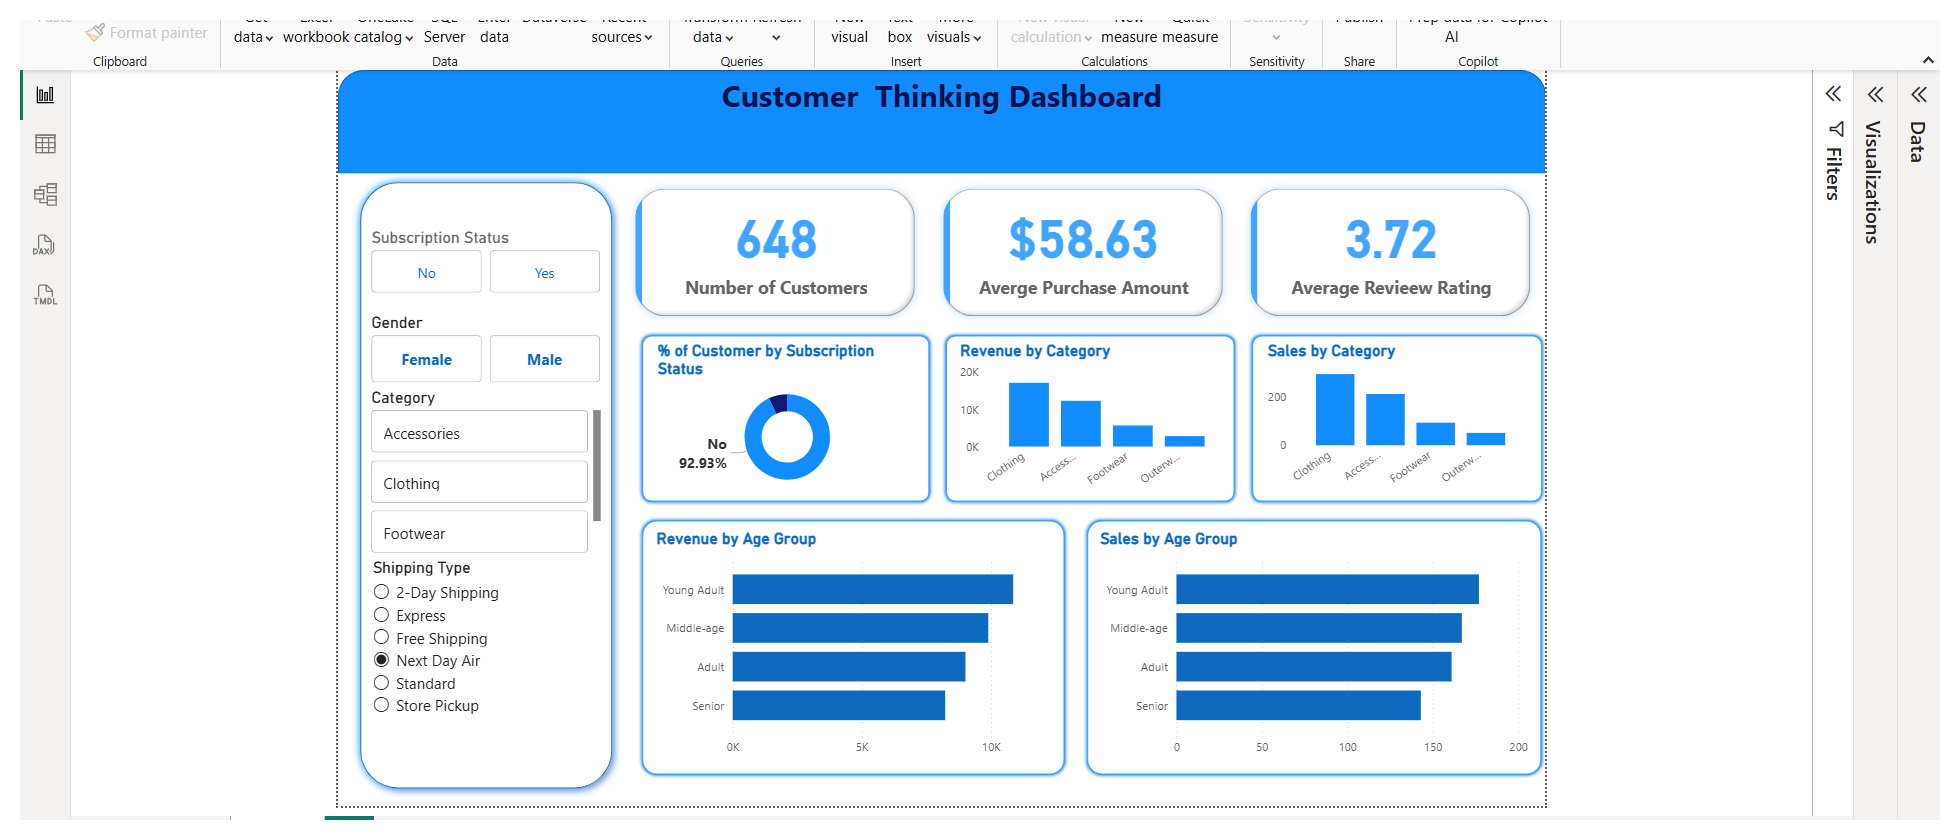

The page's visual inventory and layout, read from the dashboard file:
{"tool":"powerbi","page":{"name":"Page 1","canvas":[1280,780],"ordinal":0},"visuals":[{"type":"cardVisual","fields":{"Data":["public customer_feed_back.Number of Customers","public customer_feed_back.Averge Purchase Amount","public customer_feed_back.Average Revieew Rating"]},"box":[299.8,109.4,980.5,167.5],"z":0},{"type":"shape","box":[0,0,1280.3,109.8],"z":1000},{"type":"textbox","box":[0,0,1280.3,82.3],"z":2000},{"type":"shape","box":[317.4,276.9,313.3,185],"z":3000},{"type":"donutChart","title":" % of Customer by Subscription Status","fields":{"Category":["public customer_feed_back.subscription_status"],"Y":["Sum(public customer_feed_back.customer_id)"]},"box":[333.6,287.7,285,164.8],"z":4000},{"type":"shape","box":[640.1,276.9,314.7,185],"z":5000},{"type":"shape","box":[964.3,276.9,316,185],"z":6000},{"type":"clusteredColumnChart","title":"Revenue by Category","fields":{"Y":["Sum(public customer_feed_back.purchase_amount_usd)"],"Category":["public customer_feed_back.category"]},"box":[655,287.7,293.1,164.8],"z":7000},{"type":"clusteredColumnChart","title":"Sales by Category","fields":{"Y":["CountNonNull(public customer_feed_back.customer_id)"],"Category":["public customer_feed_back.category"]},"box":[980.5,287.7,285,163.4],"z":8000},{"type":"shape","box":[14.9,109.4,285,660.4],"z":9000},{"type":"advancedSlicerVisual","fields":{"Values":["public customer_feed_back.gender"]},"box":[31.1,256.6,253.9,79.7],"z":10000},{"type":"advancedSlicerVisual","fields":{"Values":["public customer_feed_back.subscription_status"]},"box":[31.1,167.5,253.9,74.3],"z":11000},{"type":"advancedSlicerVisual","fields":{"Values":["public customer_feed_back.category"]},"box":[31.1,336.3,253.9,181],"z":12000},{"type":"listSlicer","fields":{"Values":["public customer_feed_back.shipping_type"]},"box":[31.3,517,253,221.7],"z":13000},{"type":"shape","box":[317.4,472.7,456.5,278.2],"z":14000},{"type":"clusteredBarChart","title":"Revenue by Age Group","fields":{"Y":["Sum(public customer_feed_back.purchase_amount_usd)"],"Category":["public customer_feed_back.age_group"]},"box":[332.2,486.2,429.5,249.8],"z":15000},{"type":"shape","box":[790,472.7,490.2,278.2],"z":16000},{"type":"clusteredBarChart","title":"Sales by Age Group","fields":{"Y":["CountNonNull(public customer_feed_back.customer_id)"],"Category":["public customer_feed_back.age_group"]},"box":[802.2,486.2,463.2,249.8],"z":16001}]}

Visuals, with their boxes on the page's 1280x780 design canvas (x1, y1, x2, y2). These are canvas units, not pixel positions in the 1960x840 screenshot, which may show the page scaled, cropped or inside an application window:
cardVisual - public customer_feed_back.Number of Customers x public customer_feed_back.Averge Purchase Amount: (left=300, top=109, right=1280, bottom=277)
shape: (left=0, top=0, right=1280, bottom=110)
textbox: (left=0, top=0, right=1280, bottom=82)
shape: (left=317, top=277, right=631, bottom=462)
" % of Customer by Subscription Status" donutChart: (left=334, top=288, right=619, bottom=452)
shape: (left=640, top=277, right=955, bottom=462)
shape: (left=964, top=277, right=1280, bottom=462)
"Revenue by Category" clusteredColumnChart: (left=655, top=288, right=948, bottom=452)
"Sales by Category" clusteredColumnChart: (left=980, top=288, right=1266, bottom=451)
shape: (left=15, top=109, right=300, bottom=770)
advancedSlicerVisual - public customer_feed_back.gender: (left=31, top=257, right=285, bottom=336)
advancedSlicerVisual - public customer_feed_back.subscription_status: (left=31, top=168, right=285, bottom=242)
advancedSlicerVisual - public customer_feed_back.category: (left=31, top=336, right=285, bottom=517)
listSlicer - public customer_feed_back.shipping_type: (left=31, top=517, right=284, bottom=739)
shape: (left=317, top=473, right=774, bottom=751)
"Revenue by Age Group" clusteredBarChart: (left=332, top=486, right=762, bottom=736)
shape: (left=790, top=473, right=1280, bottom=751)
"Sales by Age Group" clusteredBarChart: (left=802, top=486, right=1265, bottom=736)
